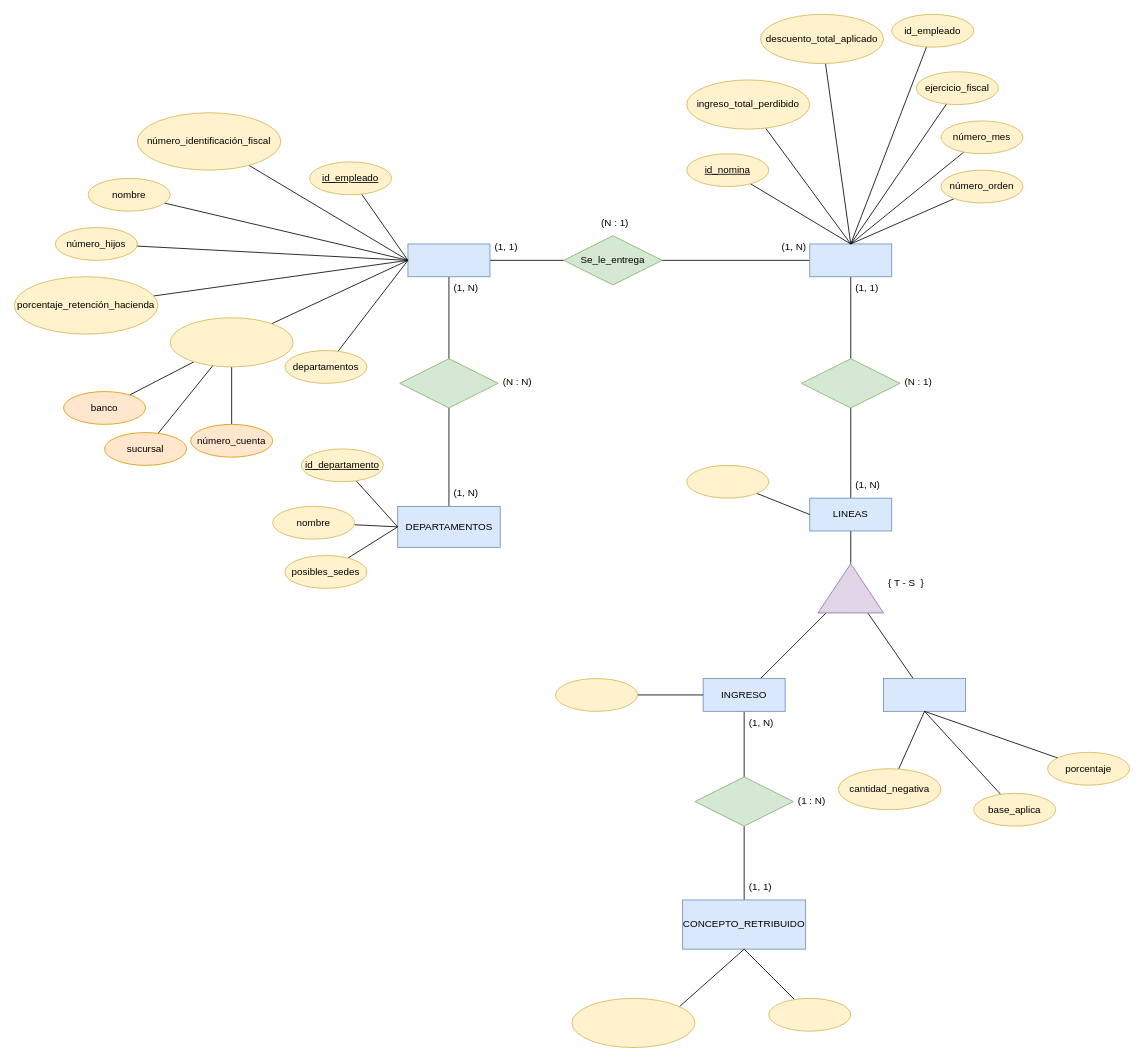
Image size: 1144x1063. Some labels were removed from this diagram. The shapes that lost their labels are listed below. From the top down, each one's centre as x and y in pixels, then its label:
At pixel 448 260: "EMPLEADO".
At pixel 850 260: "NÓMINAS".
At pixel 231 342: "datos_cuenta_corriente".
At pixel 448 383: "Trabaja".
At pixel 850 383: "Tiene".
At pixel 727 481: "id_linea".
At pixel 596 694: "cantidad_positiva".
At pixel 924 694: "DESCUENTO".
At pixel 743 801: "Responde".
At pixel 633 1023: "id_concepto_retribuido".
At pixel 809 1014: "descripción".
